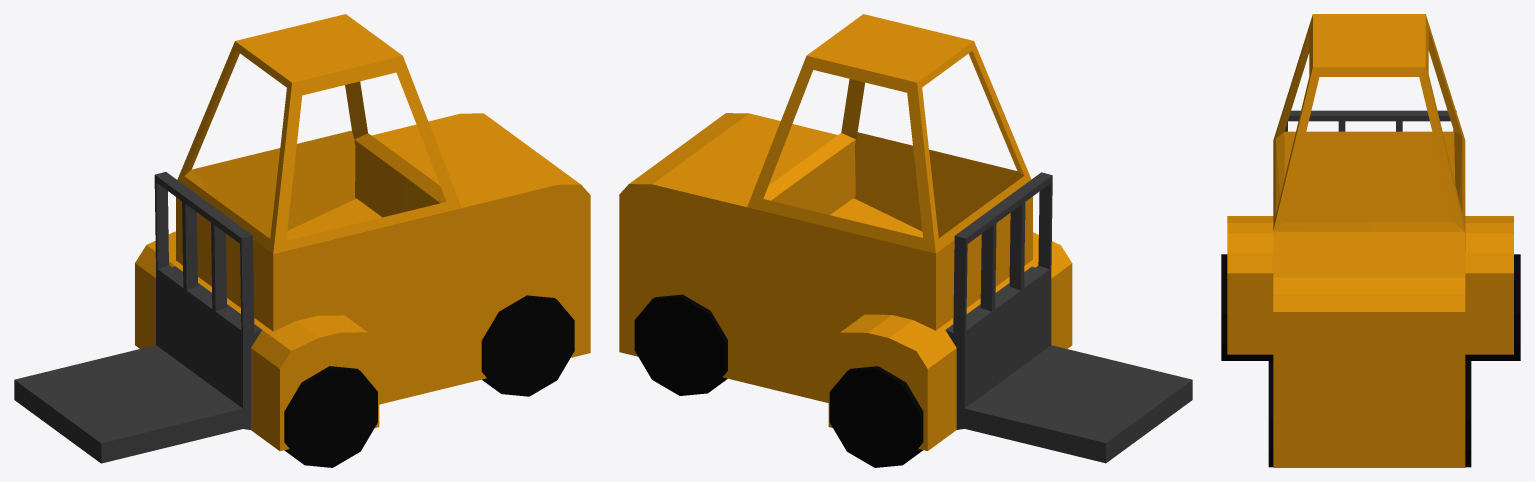
File: mobil 4.fbx
3 renders of one model, left to right at view 1: azimuth 30°, elevation 25°; view 2: azimuth 150°, elevation 25°; view 3: azimuth 270°, elevation 25°, orthographic.
Parts seen in each view (by area): view 1: Cube.012; view 2: Cube.012; view 3: Cube.012.
Boxes of the visible parts, x1,y1,x2,y2 form: Cube.012: [14, 14, 590, 467]; Cube.012: [619, 14, 1192, 467]; Cube.012: [1221, 14, 1520, 467].
Size of the model in its own units: 266 by 184 by 144.
